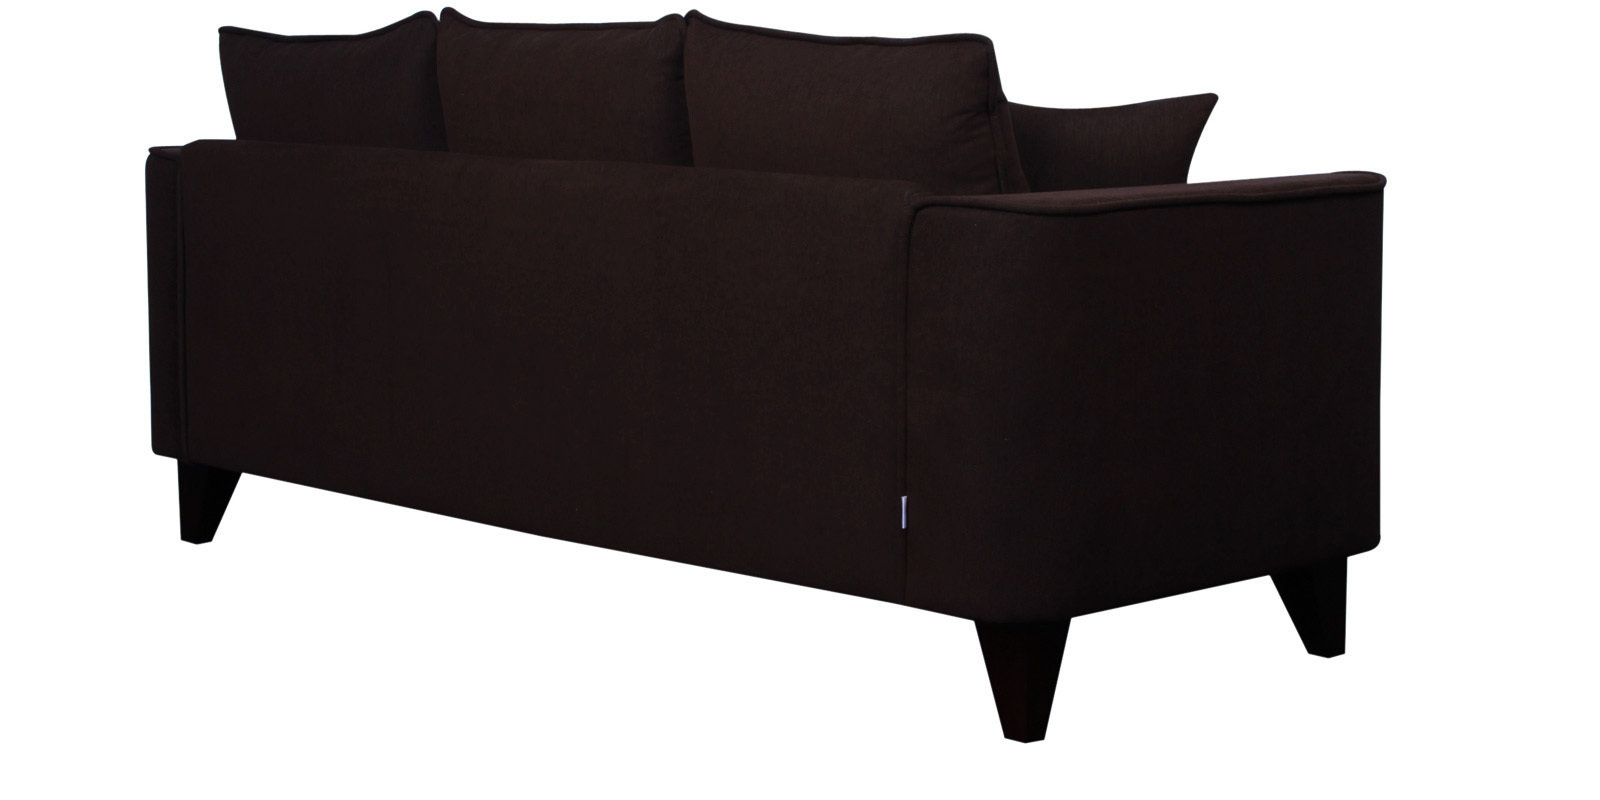Lara Three Seater Sofa in Chestnut Brown Colour by CasaCraft: (144, 5, 1385, 741)
